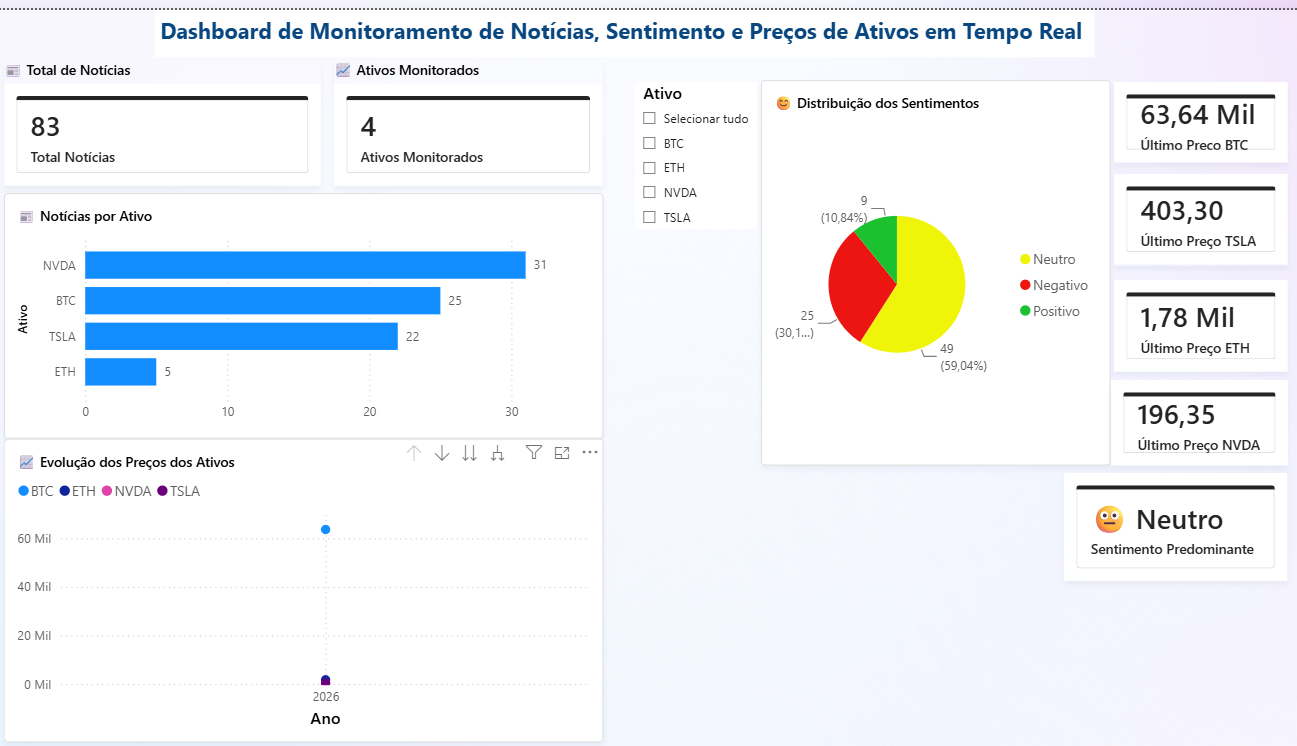

This screenshot's page, from the dashboard's own definition file:
{"tool":"powerbi","page":{"name":"Página 1","canvas":[1280,720],"ordinal":0},"visuals":[{"type":"cardVisual","title":"📰 Total de Notícias","fields":{"Data":["public vw_dashboard_mercado.Total Notícias"]},"box":[9.7,49.6,308.3,121.6],"z":0},{"type":"cardVisual","title":"📈 Ativos Monitorados","fields":{"Data":["public vw_dashboard_mercado.Ativos Monitorados"]},"box":[330.7,49.6,261.6,121.6],"z":1000},{"type":"pieChart","title":"😊 Distribuição dos Sentimentos","fields":{"Category":["public vw_dashboard_mercado.categoria_sentimento"],"Y":["Count(public vw_dashboard_mercado.noticia_id)"]},"box":[746,68.1,340.4,375.4],"z":2000},{"type":"barChart","title":"📰 Notícias por Ativo","fields":{"Category":["public vw_dashboard_mercado.ativo"],"Y":["Count(public vw_dashboard_mercado.noticia_id)"]},"box":[9.7,178,582.6,239.3],"z":3000},{"type":"slicer","fields":{"Values":["public vw_dashboard_mercado.ativo"]},"box":[623.5,70,118.7,143],"z":4000},{"type":"textbox","box":[156.6,0,914.3,45.7],"z":5000},{"type":"cardVisual","fields":{"Data":["public vw_dashboard_mercado.Último Preço BTC"]},"box":[1089.4,70,169.2,78.8],"z":6000},{"type":"cardVisual","fields":{"Data":["public vw_dashboard_mercado.Último Preço ETH"]},"box":[1089.4,262.6,169.2,89.5],"z":7000},{"type":"cardVisual","fields":{"Data":["public vw_dashboard_mercado.Último Preço NVDA"]},"box":[1086.4,359.9,172.2,83.6],"z":8000},{"type":"cardVisual","fields":{"Data":["public vw_dashboard_mercado.Último Preço TSLA"]},"box":[1089.4,159.5,169.2,88.5],"z":9000},{"type":"lineChart","title":"📈 Evolução dos Preços dos Ativos","fields":{"Category":["public vw_dashboard_mercado.data_preco.Variation.Hierarquia de datas.Ano","public vw_dashboard_mercado.data_preco.Variation.Hierarquia de datas.Trimestre","public vw_dashboard_mercado.data_preco.Variation.Hierarquia de datas.Mês","public vw_dashboard_mercado.data_preco.Variation.Hierarquia de datas.Dia"],"Y":["Max(public vw_dashboard_mercado.preco)"],"Series":["public vw_dashboard_mercado.Ativo"]},"box":[9.7,417.3,582.6,294.7],"z":10000},{"type":"cardVisual","fields":{"Data":["public vw_dashboard_mercado.Sentimento Predominante"]},"box":[1040.7,450.3,217.9,105],"z":10001}]}

Visuals, with their boxes in screenshot pixels (x1, y1, x2, y2), scaled from the page's 1280x720 canvas onto the 1297x746 screenshot:
"📰 Total de Notícias" cardVisual: box(10, 51, 322, 177)
"📈 Ativos Monitorados" cardVisual: box(335, 51, 600, 177)
"😊 Distribuição dos Sentimentos" pieChart: box(756, 71, 1101, 460)
"📰 Notícias por Ativo" barChart: box(10, 184, 600, 432)
slicer - public vw_dashboard_mercado.ativo: box(632, 73, 752, 221)
textbox: box(159, 0, 1085, 47)
cardVisual - public vw_dashboard_mercado.Último Preço BTC: box(1104, 73, 1275, 154)
cardVisual - public vw_dashboard_mercado.Último Preço ETH: box(1104, 272, 1275, 365)
cardVisual - public vw_dashboard_mercado.Último Preço NVDA: box(1101, 373, 1275, 460)
cardVisual - public vw_dashboard_mercado.Último Preço TSLA: box(1104, 165, 1275, 257)
"📈 Evolução dos Preços dos Ativos" lineChart: box(10, 432, 600, 738)
cardVisual - public vw_dashboard_mercado.Sentimento Predominante: box(1055, 467, 1275, 575)
